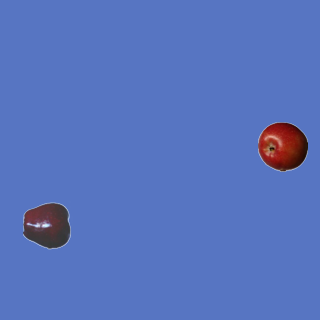Apple Braeburn: (257, 121, 307, 171)
Apple Red Delicious: (22, 200, 72, 250)
